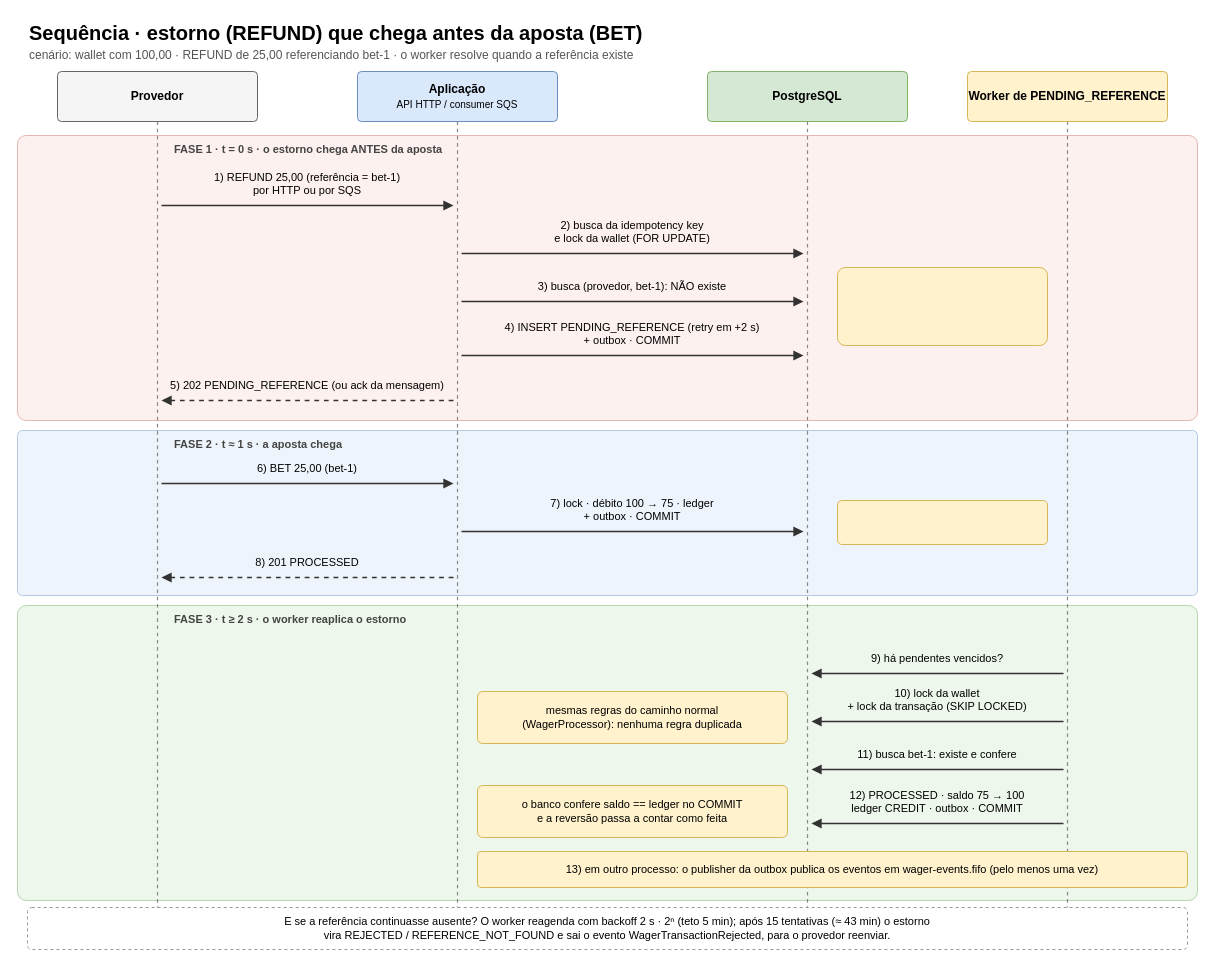
Image size: 1215x967. Some labels were removed from this diagram. Here are the shapes that lost their labels. From the top down, the centre of each, then its label:
At point (942, 306): "saldo INTOCADO sem lançamento no ledger evento PendingReference".
At point (942, 522): "saldo 100,00 → 75,00 (a aposta é processada normal)".
